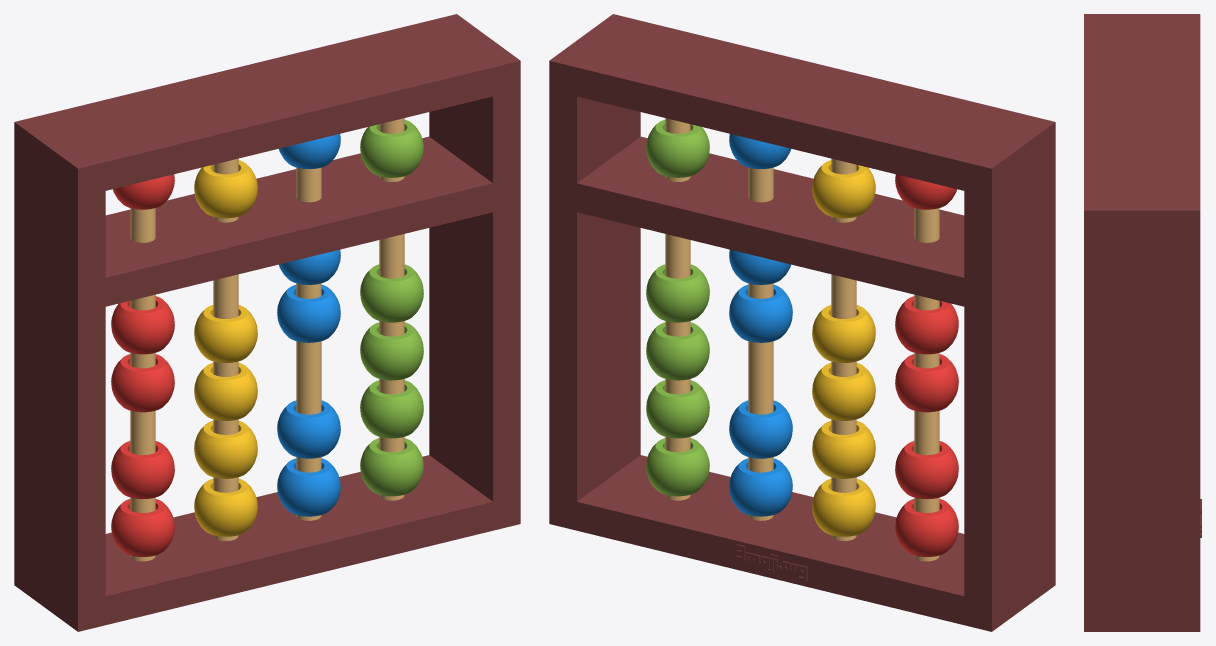
Rendered from abacus.fbx.
3 views of the same model, side by side, from view 1: azimuth 30°, elevation 25°; view 2: azimuth 150°, elevation 25°; view 3: azimuth 270°, elevation 25° (orthographic). The views are drawn at different scales.
Parts seen in each view (by area): view 1: Cube.933; view 2: Cube.933; view 3: Cube.933.
Boxes of the visible parts, left/top/right/bottom form: Cube.933: left=14, top=14, right=520, bottom=631; Cube.933: left=549, top=14, right=1055, bottom=631; Cube.933: left=1084, top=14, right=1201, bottom=631.
Bounding box in the file's own units: 211 × 211 × 53.45.
Materials: 1 (1 with a texture image).
